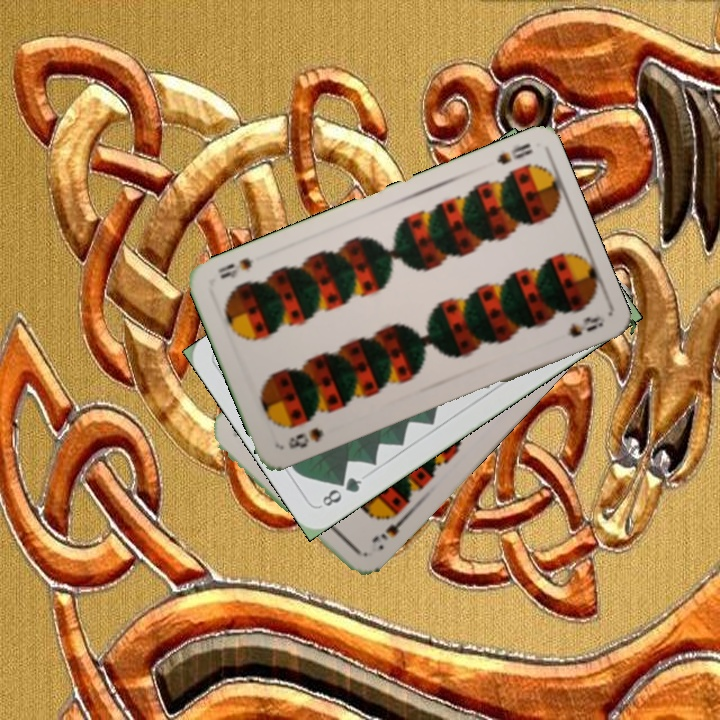G8: (317, 473, 365, 510)
S8: (492, 139, 535, 168), (284, 423, 326, 452)
S9: (367, 505, 412, 546)
